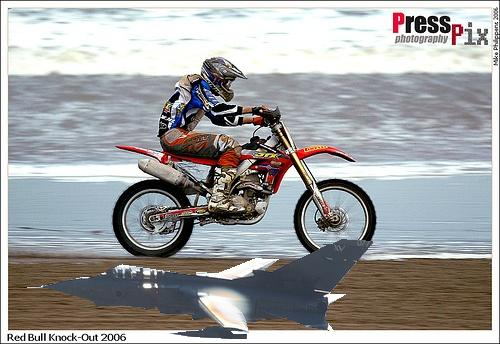tampered: (28, 240, 373, 339)
